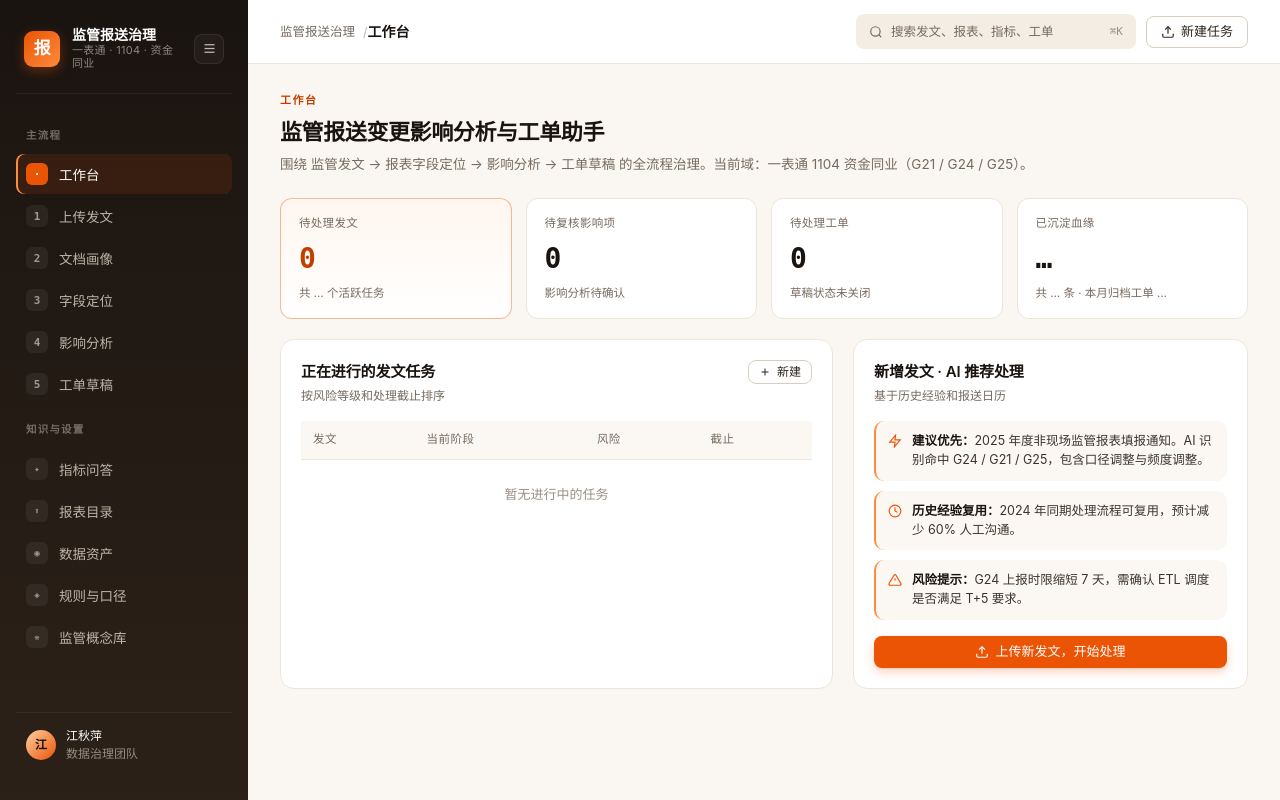
Test: App › shows task workflow impact content
What coordinates should you click on to do the following:
click the button "4 影响分析"
I would click on:
 (124, 342)
Its box is top-left (16, 322), bottom-right (232, 362).
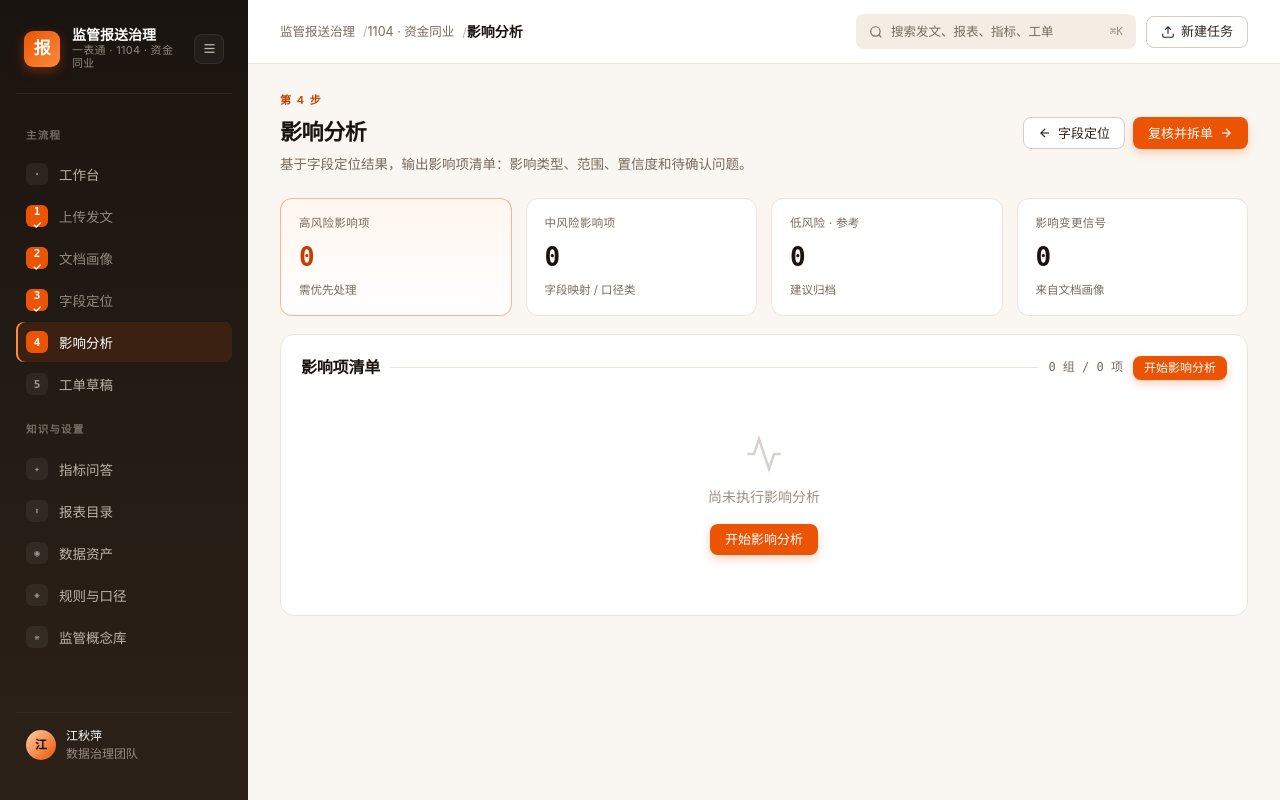
Expected: the text "影响分析" is shown, top-left (59, 332), bottom-right (113, 352)
Now the text "开始影响分析" is shown, box top-left (1133, 356), bottom-right (1227, 380)
